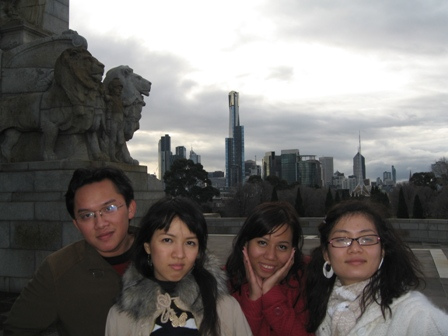without_mask: (61, 173, 143, 252), (143, 206, 206, 283), (322, 208, 385, 282), (236, 211, 296, 283)
